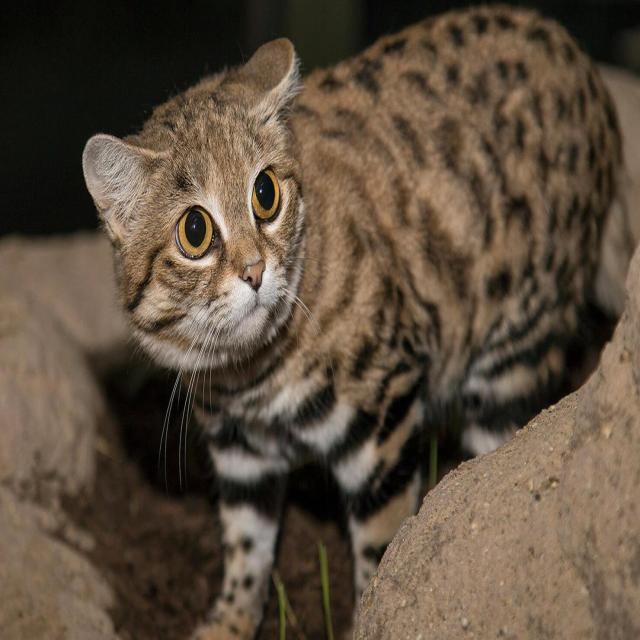Cat: (72, 28, 311, 382)
